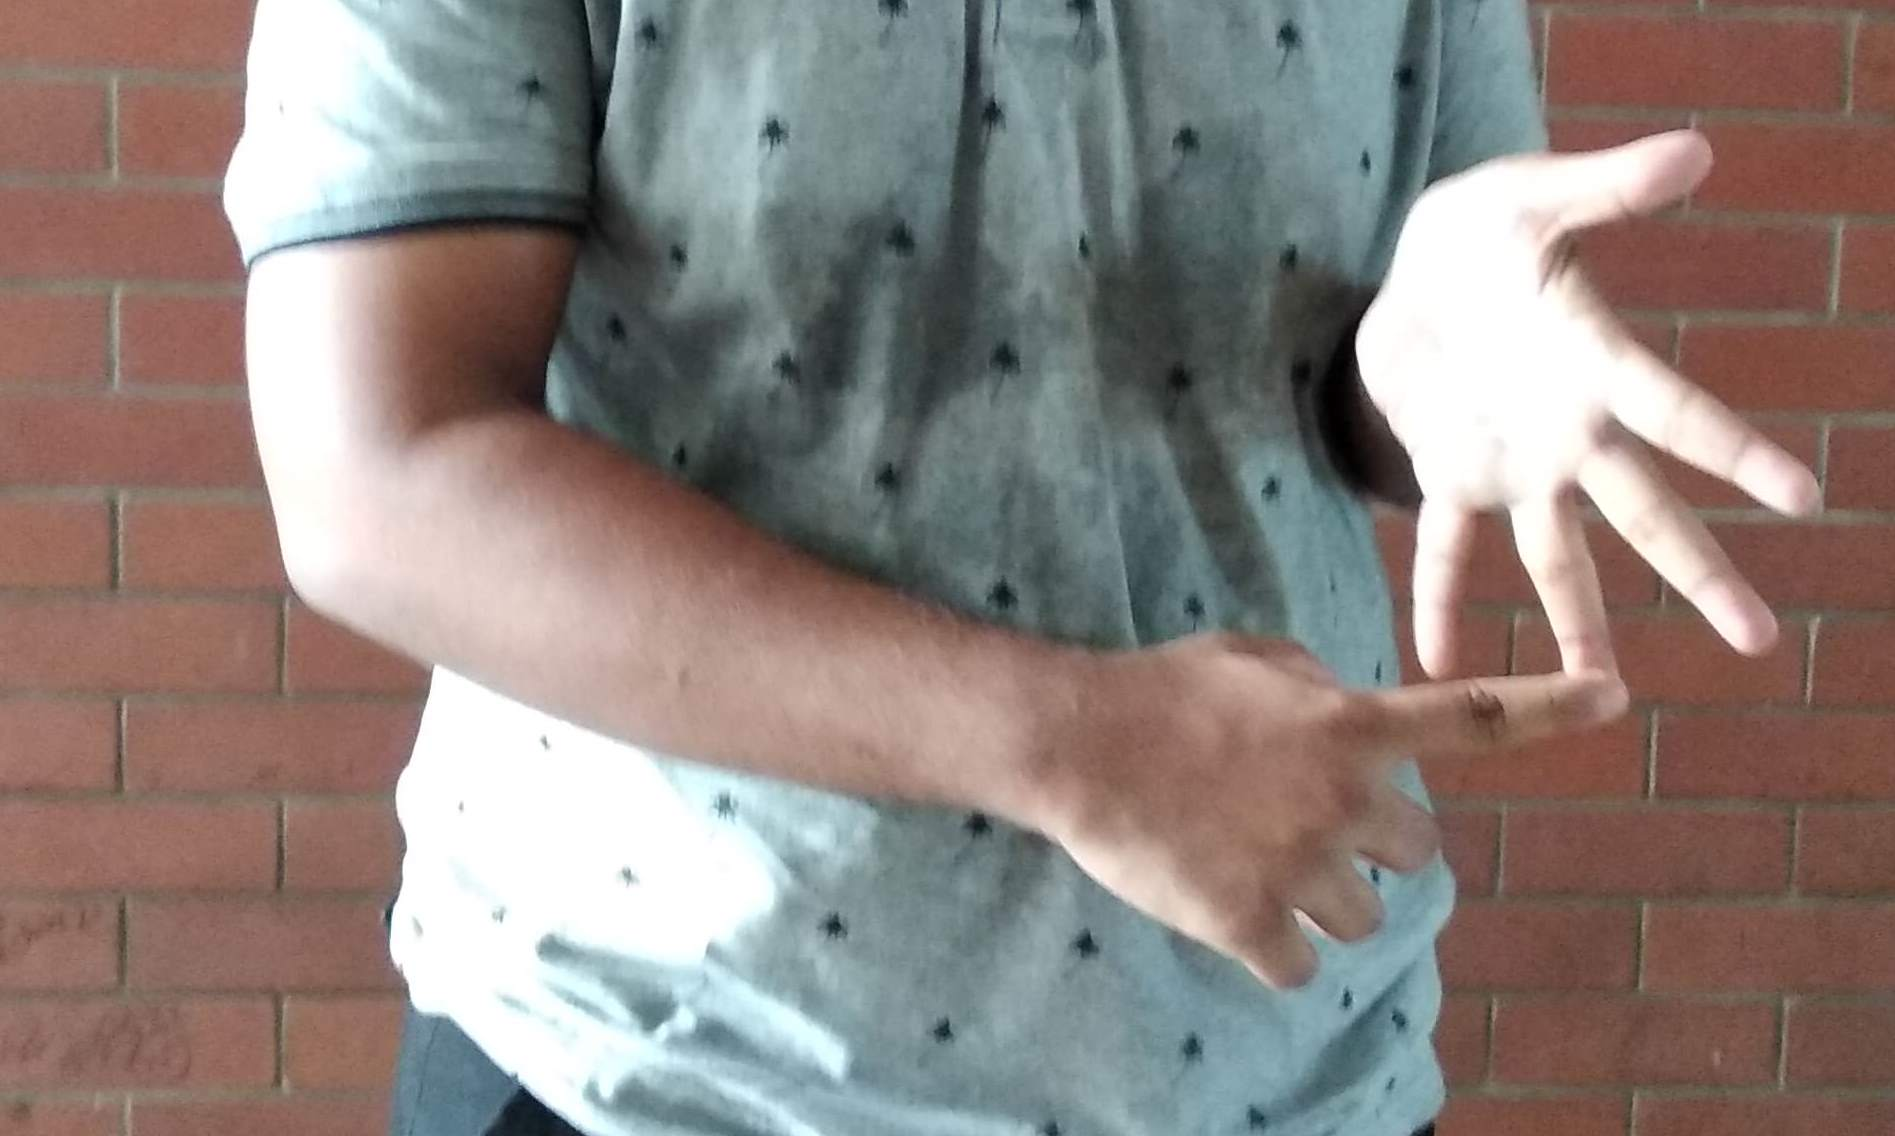e: (1248, 192, 1804, 989)
